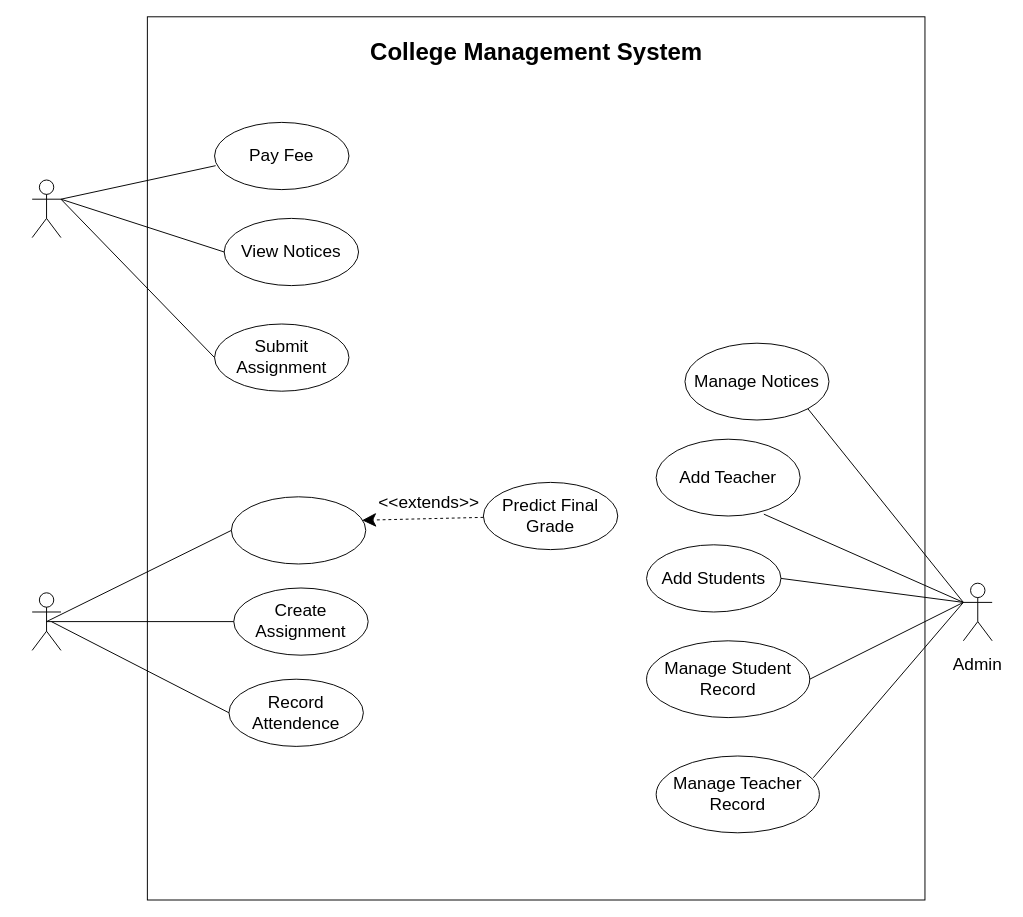
The diagram is 1023 pixels wide and 917 high, and some of its shapes have lost their labels. Here are the shapes that lost their labels. From the top down, the centre of each, then its label:
At (x=46, y=208): "Student".
At (x=298, y=530): "Enter Student Records".
At (x=46, y=621): "Teachers".
